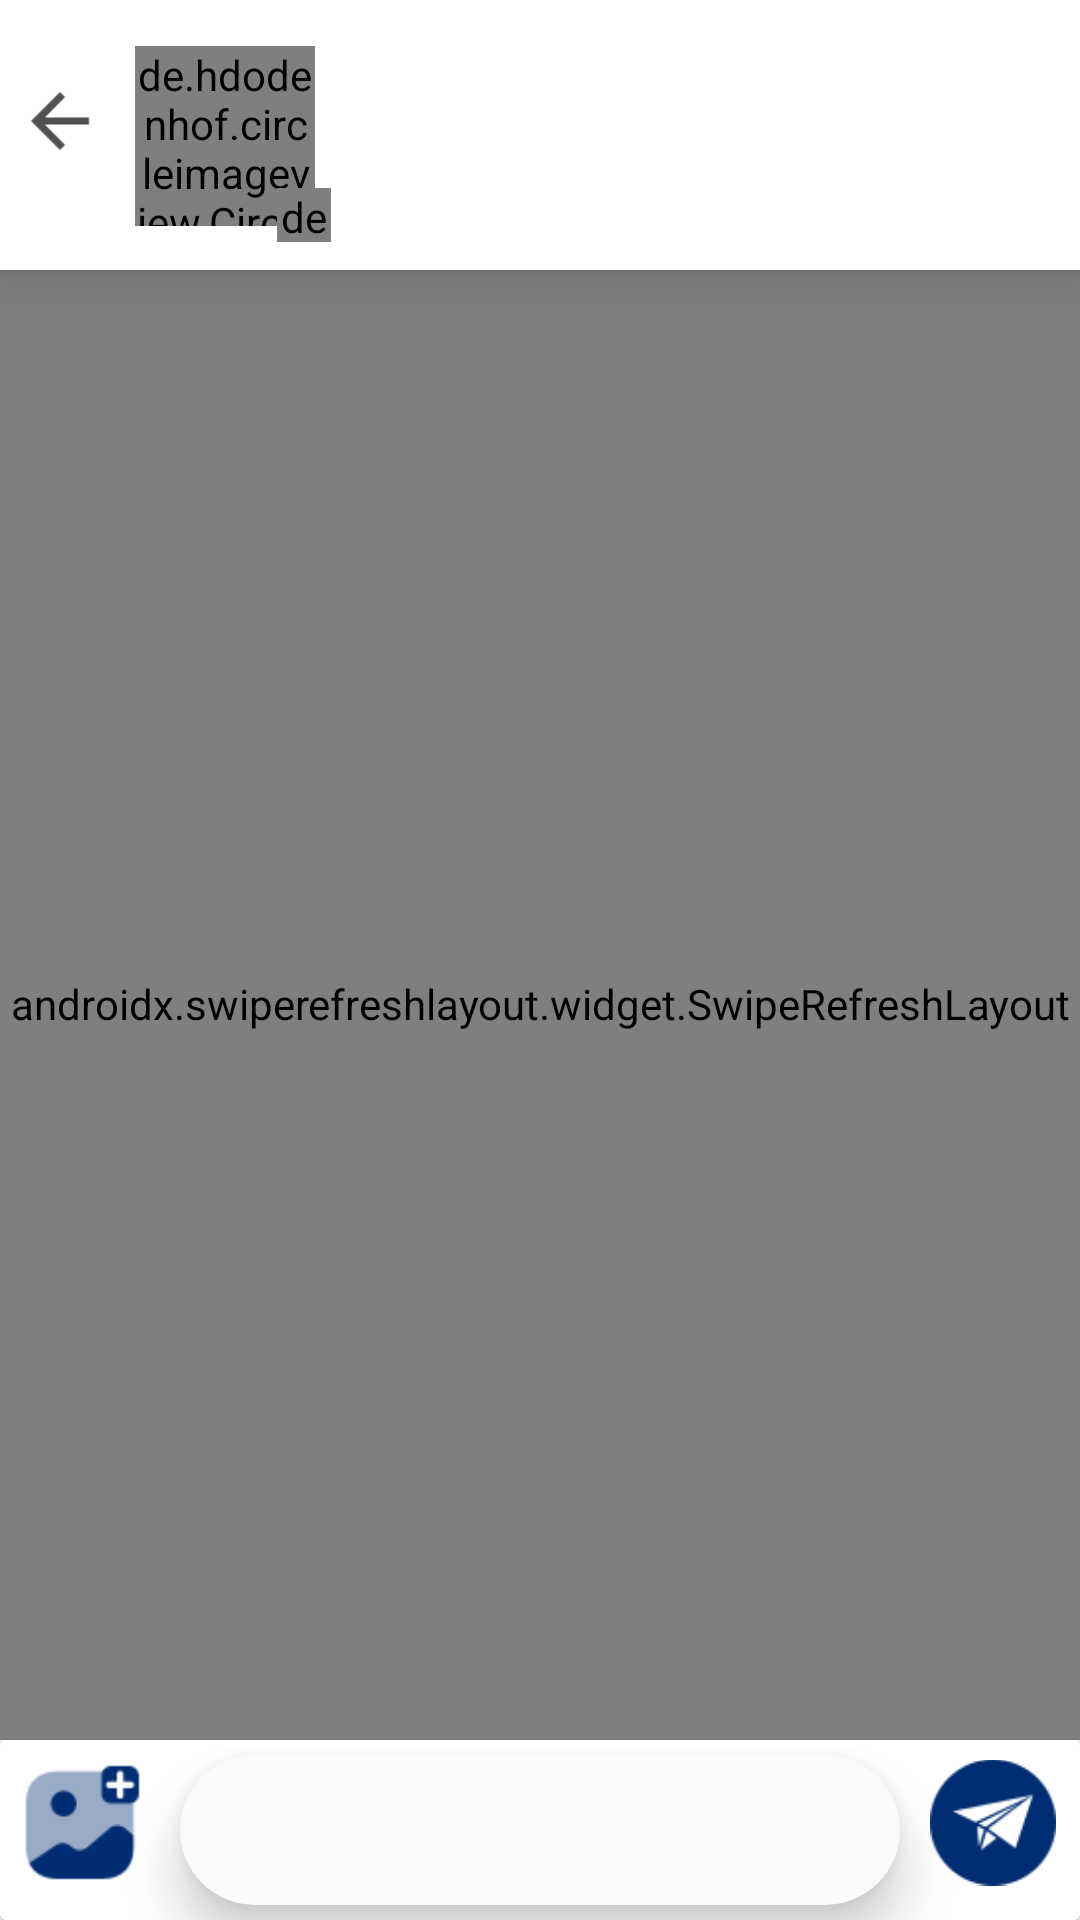

Icons on this 1080px×1920px Android screen, each with its box as [x1=x1, y1=y1, x2=x2, y2=y2]:
back: [x1=31, y1=92, x2=90, y2=150]
gallery: [x1=26, y1=1765, x2=140, y2=1880]
send: [x1=930, y1=1760, x2=1056, y2=1886]
